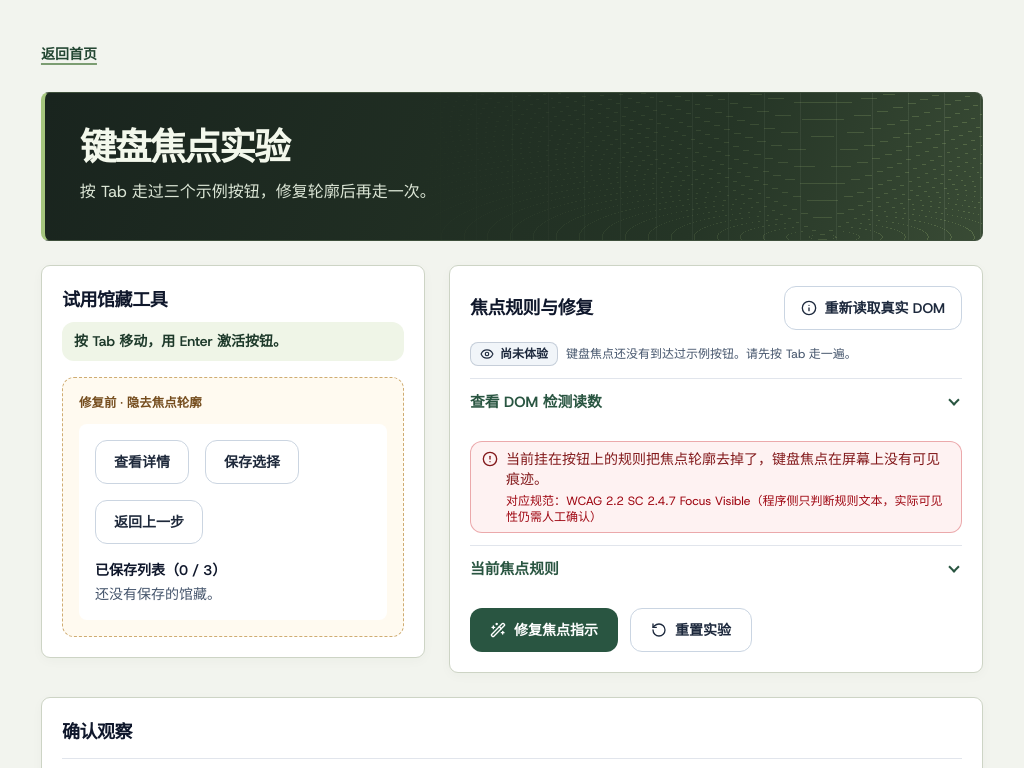
Test: KeyboardFocusLabPage · 三个按钮真的有用（要求 #7） › 「保存选择」真的往列表里写一条，计数与播报都跟着变
The image size is (1024, 768).
Click the button "保存选择" at (252, 462), box [205, 440, 299, 484]
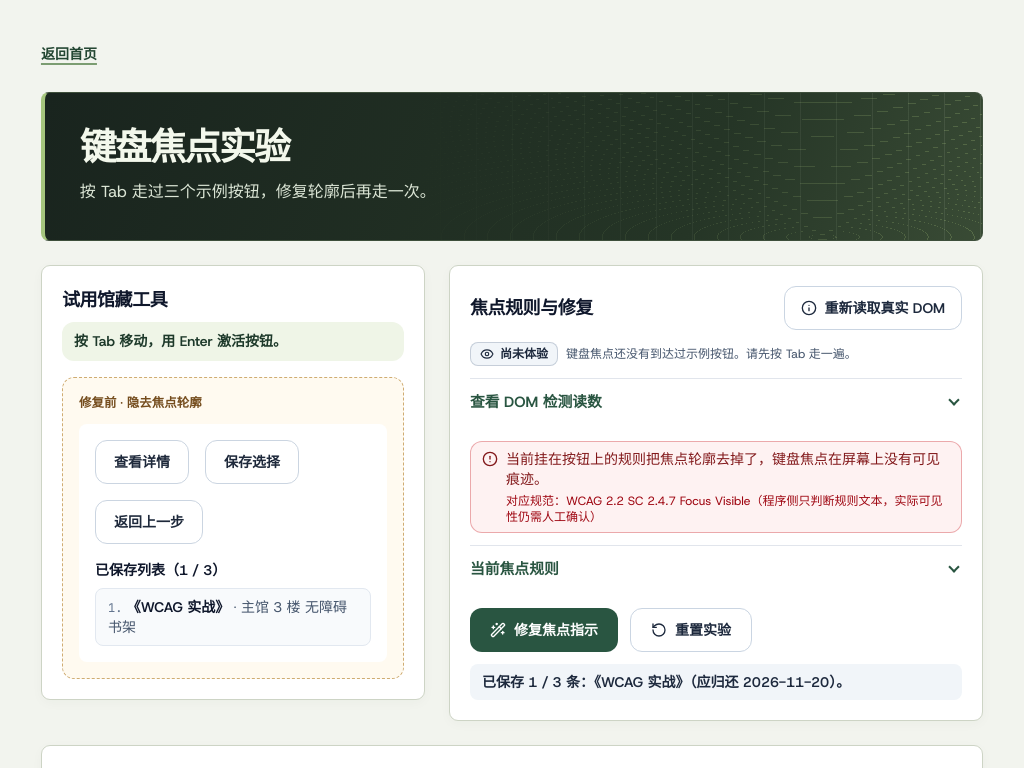
Check: the text "已保存列表（1 / 3）" is shown, box [95, 561, 226, 579]
Check: the text "《WCAG 实战》" is shown, box [127, 598, 229, 616]
Check: the message "已保存 1 / 3 条：《WCAG 实战》（应归还 2026-11-20）。" is shown, box [470, 664, 962, 700]
